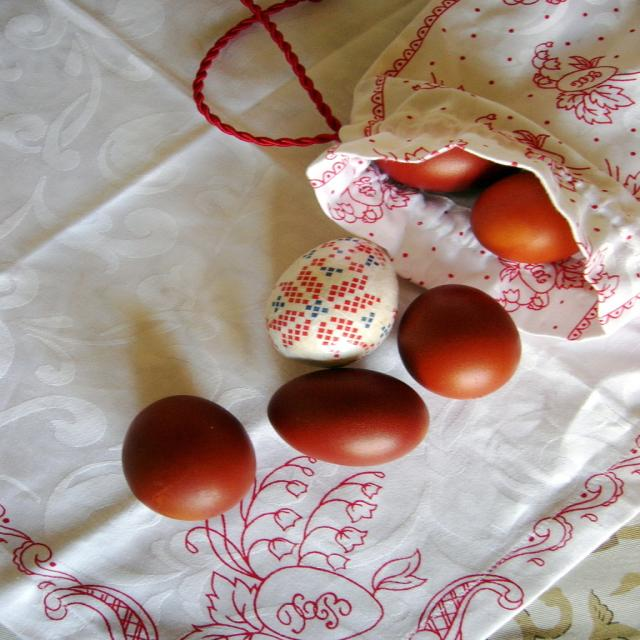Egg: (121, 393, 256, 520), (268, 365, 432, 466), (397, 283, 522, 397), (475, 172, 582, 270)
